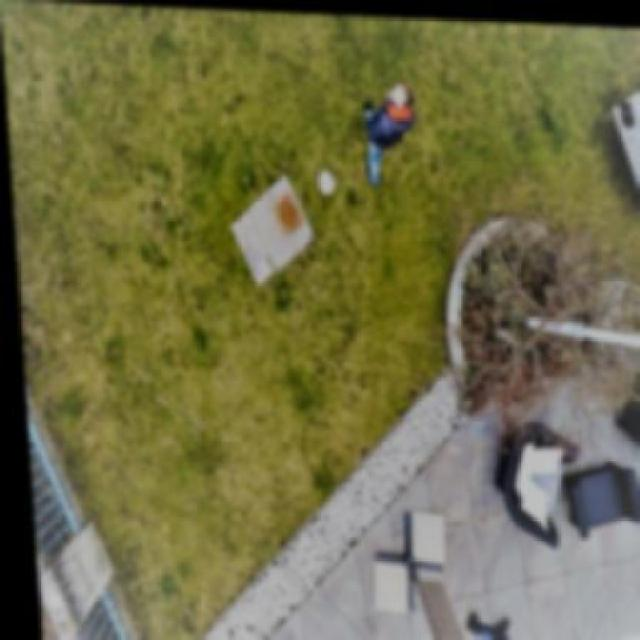Person: (353, 72, 422, 190)
